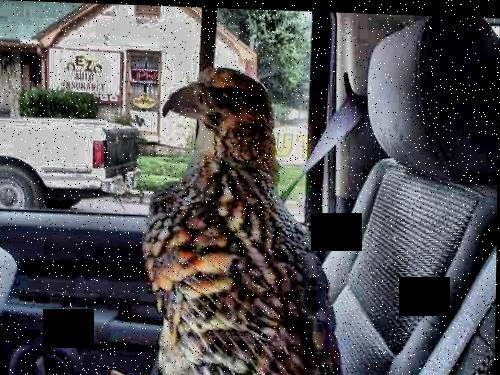seatbelt: (272, 75, 385, 207)
